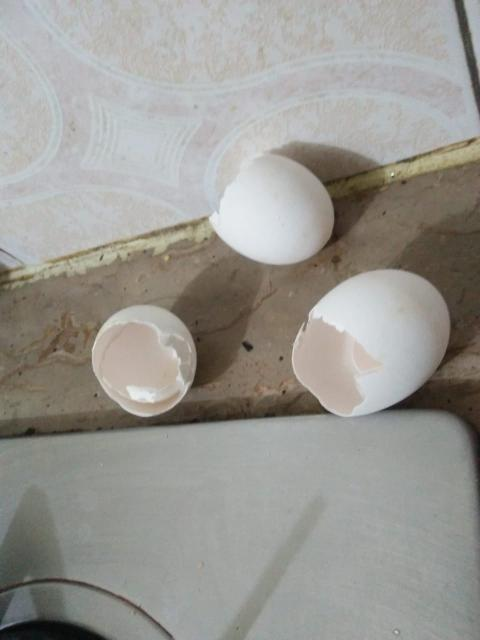Roto: (290, 267, 451, 418), (208, 153, 335, 266), (91, 303, 197, 418)
